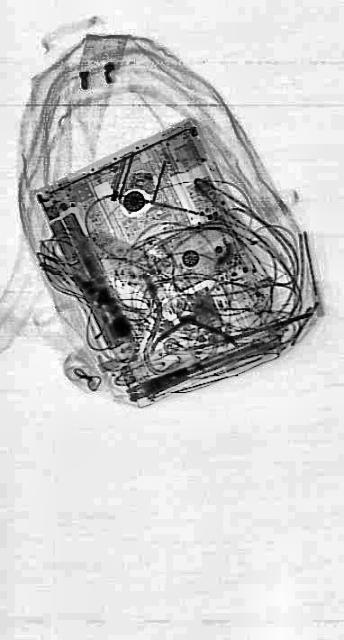Pliers: (150, 308, 236, 354)
